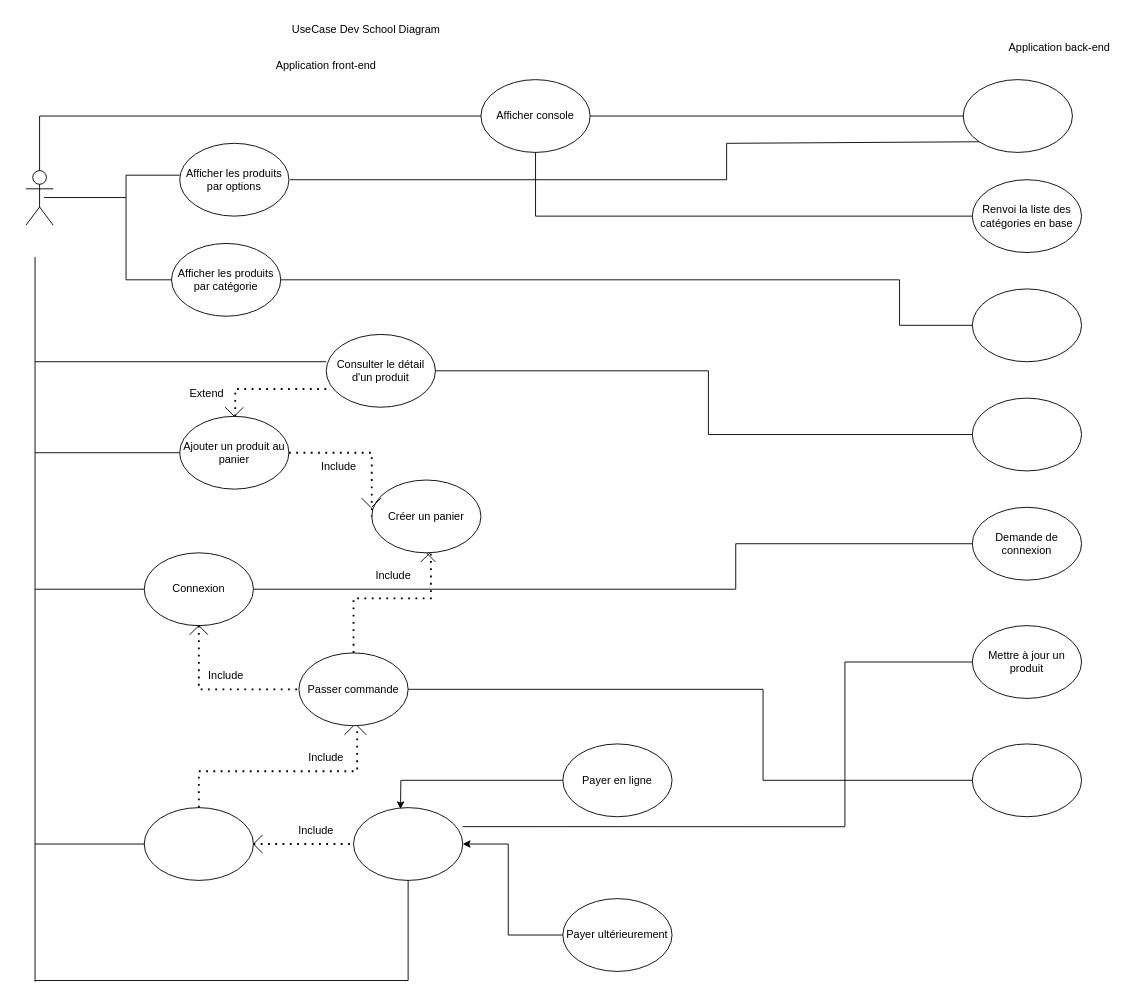
Image size: 1135x998. Some labels were removed from this diagram. Here are the shapes that lost their labels. From the top down, the box of each, then its label:
(962, 79, 1072, 152): Renvoi la liste des produits en base
(25, 170, 53, 225): Utilisateur
(971, 288, 1082, 362): Renvoi la liste des produits pour une catégorie
(971, 397, 1082, 471): Renvoi toutes les infos d'un produit
(971, 743, 1082, 817): Créer une commande
(143, 807, 253, 880): Créer le client
(353, 807, 463, 880): Payer
